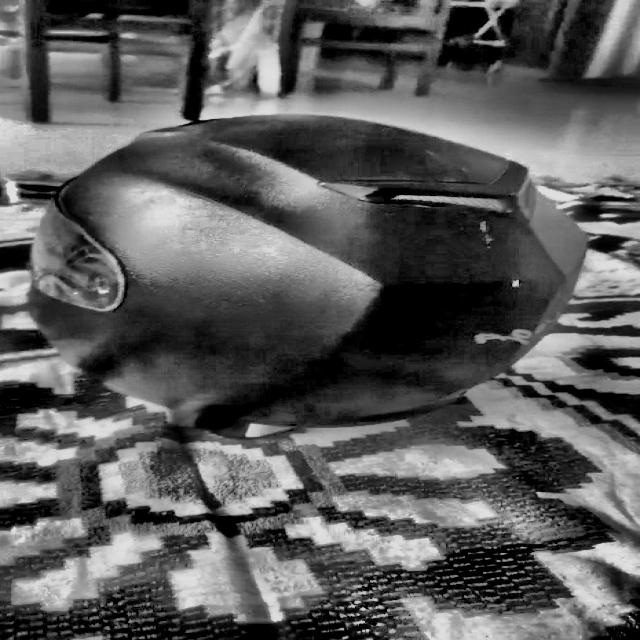Helmet: (28, 111, 596, 417)
